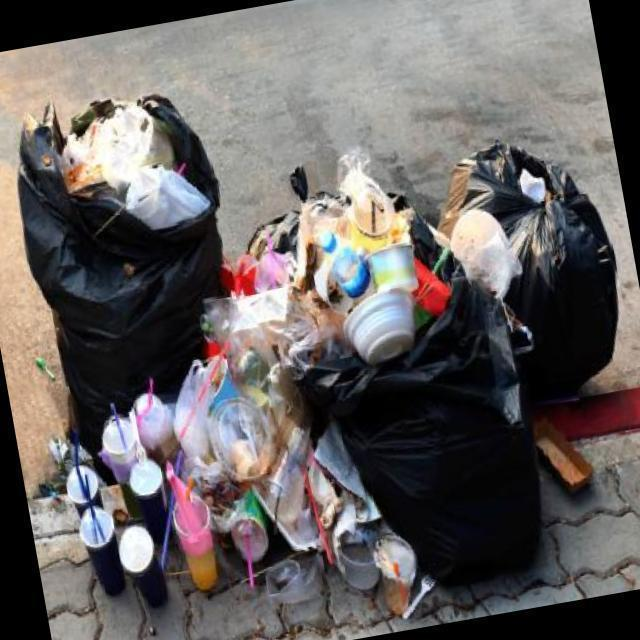Garbage_Bag: (0, 72, 269, 496), (419, 125, 640, 427)
